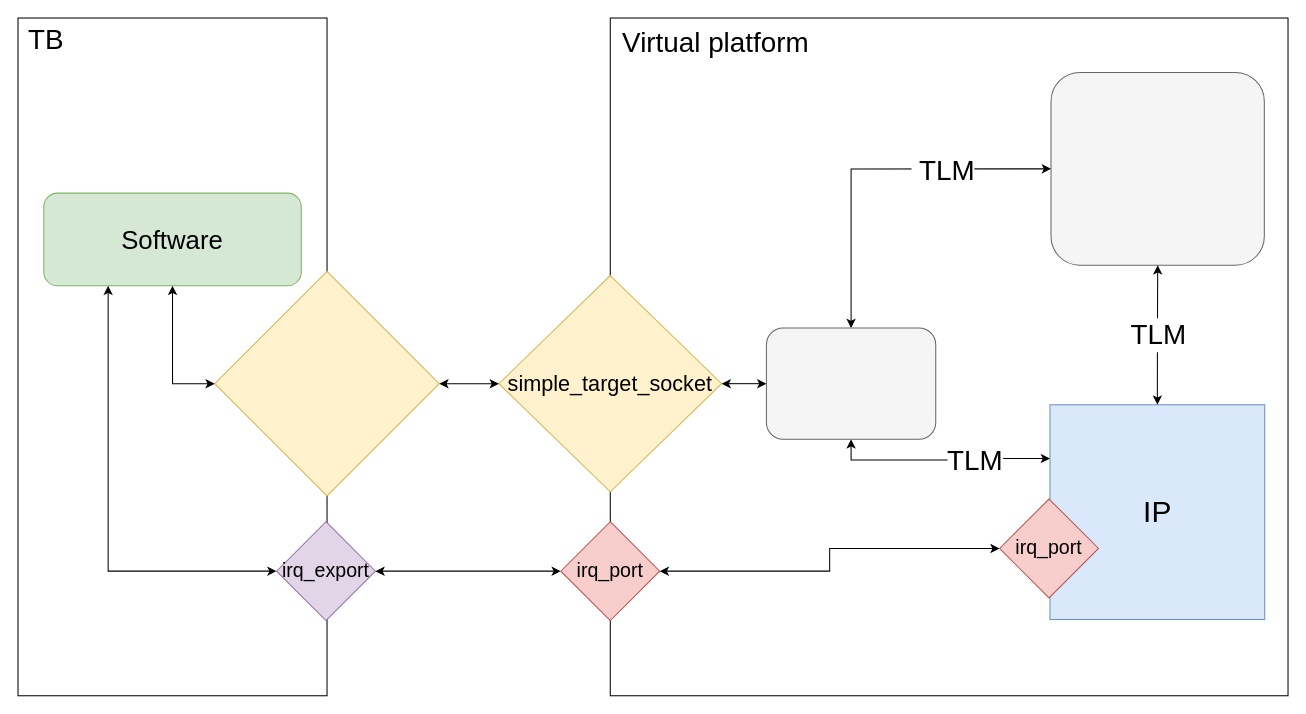
Image size: 1306x714. Some labels were removed from this diagram. The centre of each missing label's shape, as x and y in pixels:
BRAM model: the point at 1157,168
Interconnect: the point at 850,383
simple_initiator_socket: the point at 326,383
